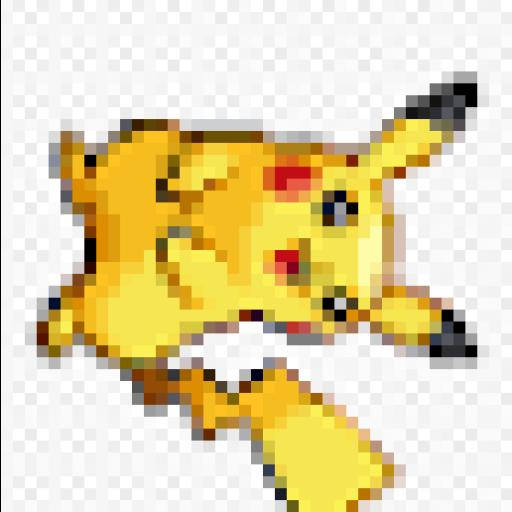Pikachu: (25, 72, 480, 512)
